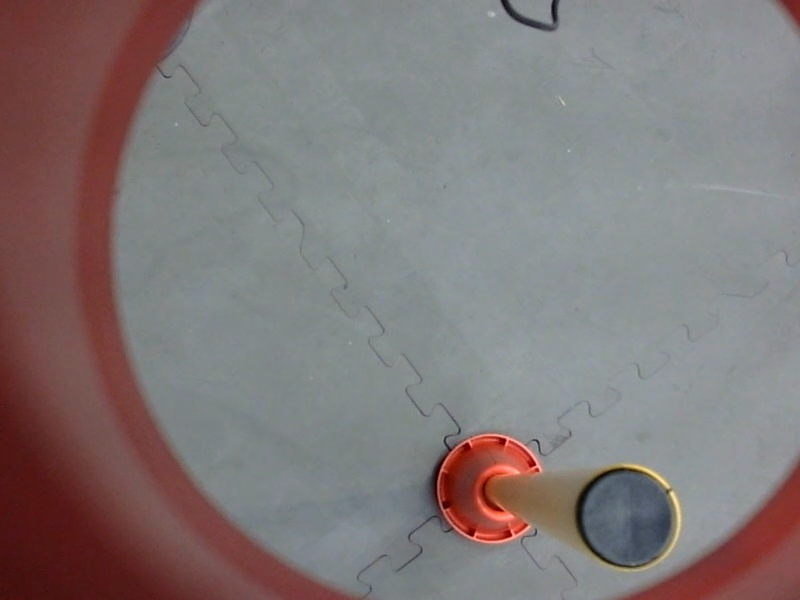tip: (570, 455, 686, 577)
